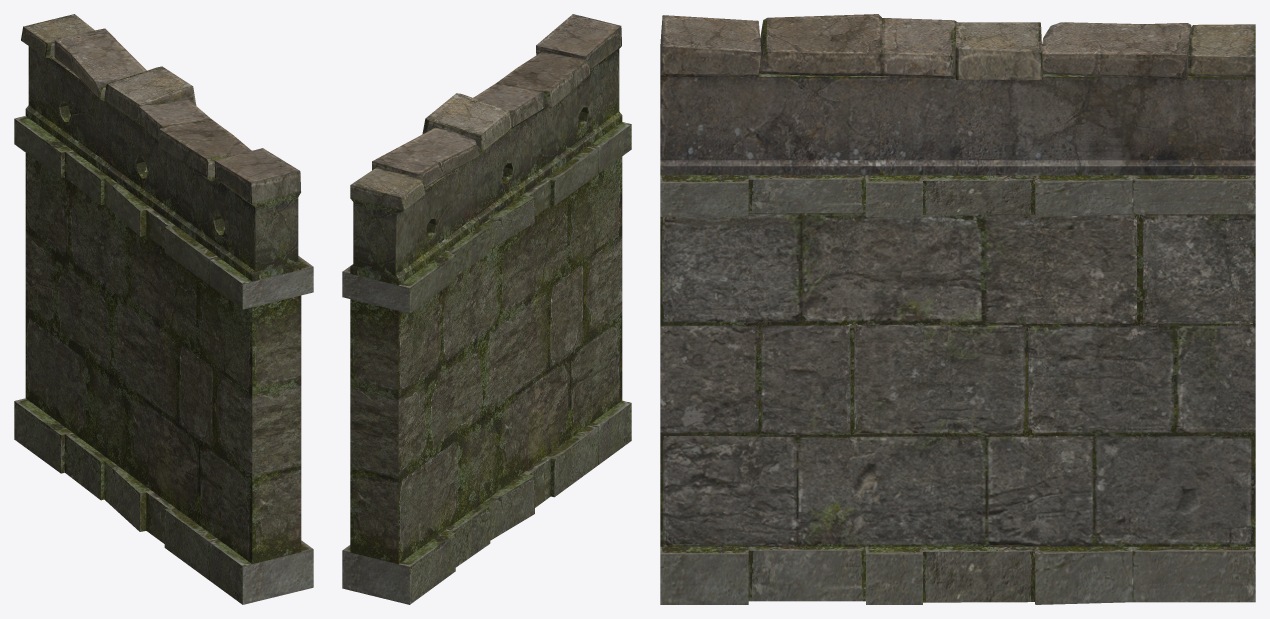
Rendered from bg_lut_lutomb_wall06_sm_old (2).FBX.
The picture shows the model from 3 angles, left to right: view 1: azimuth 30°, elevation 25°; view 2: azimuth 150°, elevation 25°; view 3: azimuth 270°, elevation 25°; orthographic projection. The views are drawn at different scales.
Parts seen in each view (by area): view 1: bg_lut_lutomb_wall06_sm_old; view 2: bg_lut_lutomb_wall06_sm_old; view 3: bg_lut_lutomb_wall06_sm_old.
Part boxes in pixels (<box>): bg_lut_lutomb_wall06_sm_old: <box>14,14,313,604</box>; bg_lut_lutomb_wall06_sm_old: <box>342,14,631,604</box>; bg_lut_lutomb_wall06_sm_old: <box>660,14,1255,604</box>.
Bounding box in the file's own units: 95.57 × 523 × 512.
